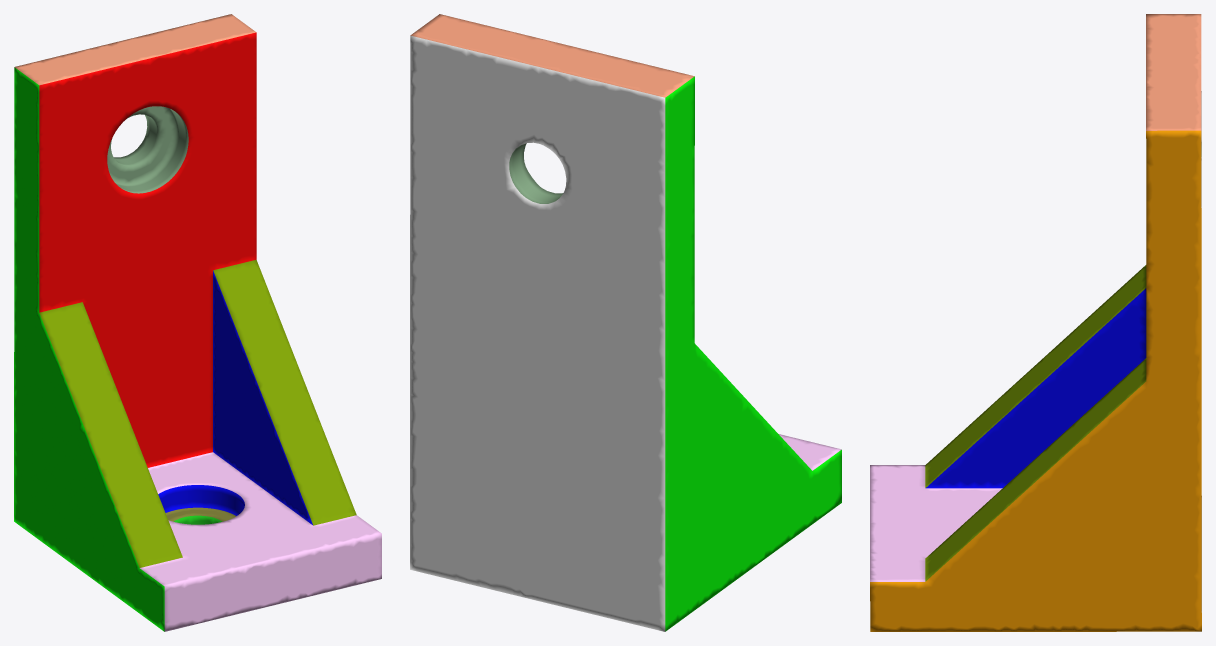
The model's file is model_47_segmented_new.obj.
The picture shows the model from 3 angles, left to right: view 1: azimuth 30°, elevation 25°; view 2: azimuth 150°, elevation 25°; view 3: azimuth 270°, elevation 25°; orthographic projection. The views are drawn at different scales.
Size of the model in its own units: 20 by 40.02 by 24.
